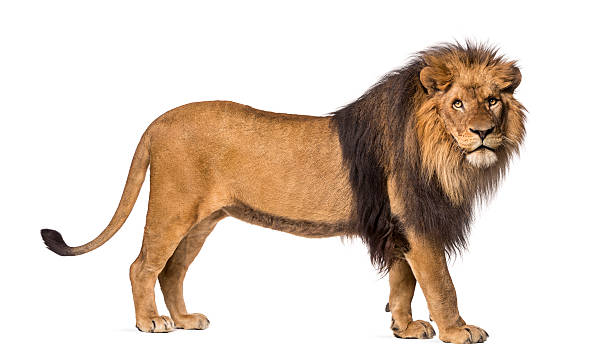lion: (319, 26, 548, 280)
